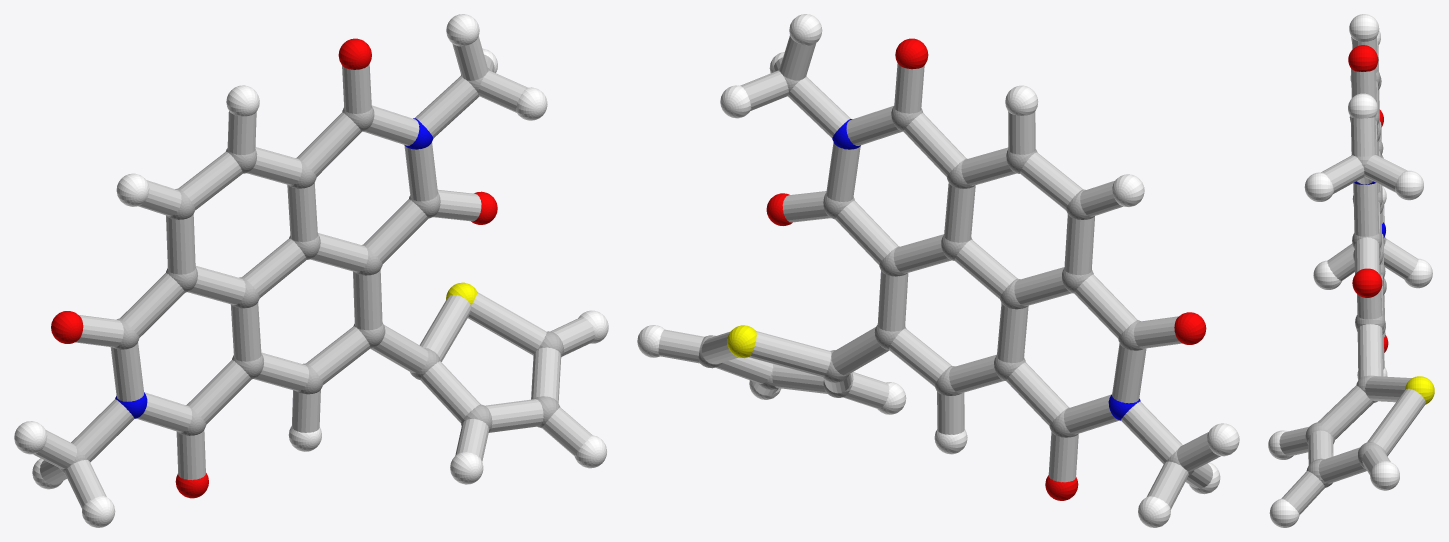
The model's file is Dimethyl_Naphthalene_Dicarboximide_Phi_25_Theta_130_Thiophene.glb.
3 views of the same model, side by side, from view 1: azimuth 30°, elevation 25°; view 2: azimuth 150°, elevation 25°; view 3: azimuth 270°, elevation 25° (orthographic). The views are drawn at different scales.
Parts seen in each view (by area): view 1: grp14119, grp7241, grp1, grp12309, grp11585; view 2: grp14119, grp7241, grp1, grp12309, grp13757, grp11585; view 3: grp14119, grp7241, grp1, grp12309, grp13757.
Part boxes in pixels (x1,y1,x2,y2): grp14119: (33, 36, 594, 508); grp7241: (14, 14, 608, 527); grp1: (59, 68, 563, 473); grp12309: (51, 38, 497, 498); grp11585: (115, 118, 433, 418); grp14119: (658, 35, 1220, 509); grp7241: (637, 14, 1239, 527); grp1: (698, 68, 1193, 475); grp12309: (766, 38, 1206, 500); grp13757: (727, 325, 756, 358); grp11585: (832, 119, 1140, 420); grp14119: (1279, 37, 1425, 514); grp7241: (1268, 14, 1432, 527); grp1: (1305, 70, 1387, 487); grp12309: (1348, 45, 1388, 352); grp13757: (1405, 376, 1434, 404).
Size of the model in its own units: 12.39 by 8.75 by 3.33.
